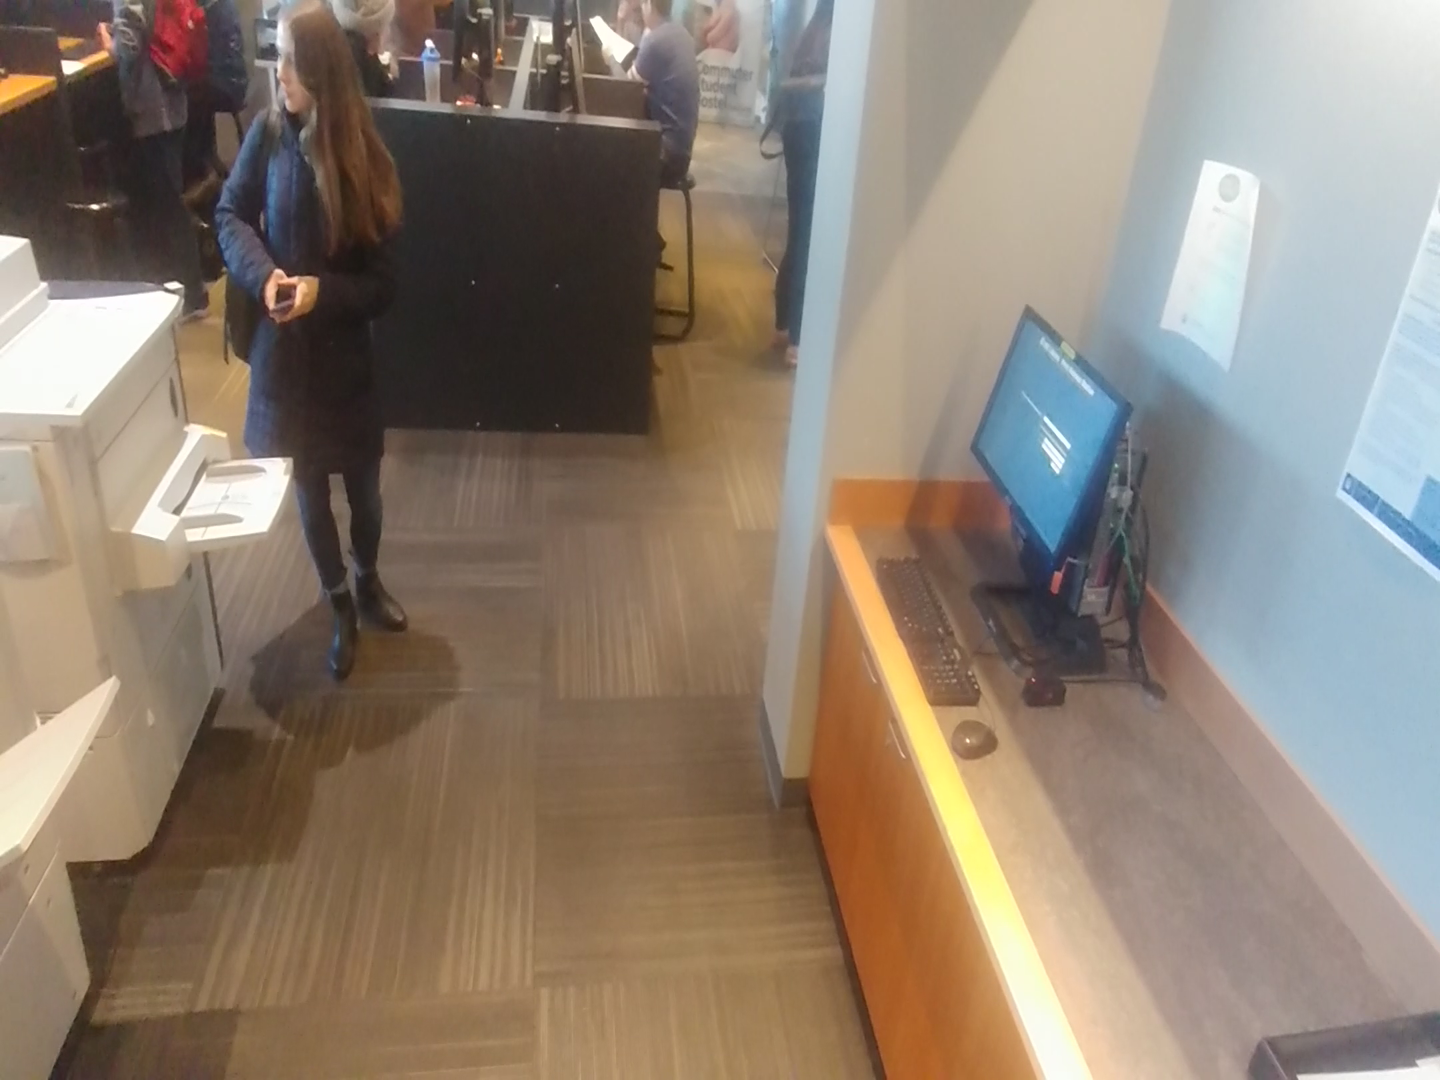face: (255, 0, 357, 155)
human: (206, 0, 421, 698), (91, 0, 214, 329), (607, 0, 717, 198)
